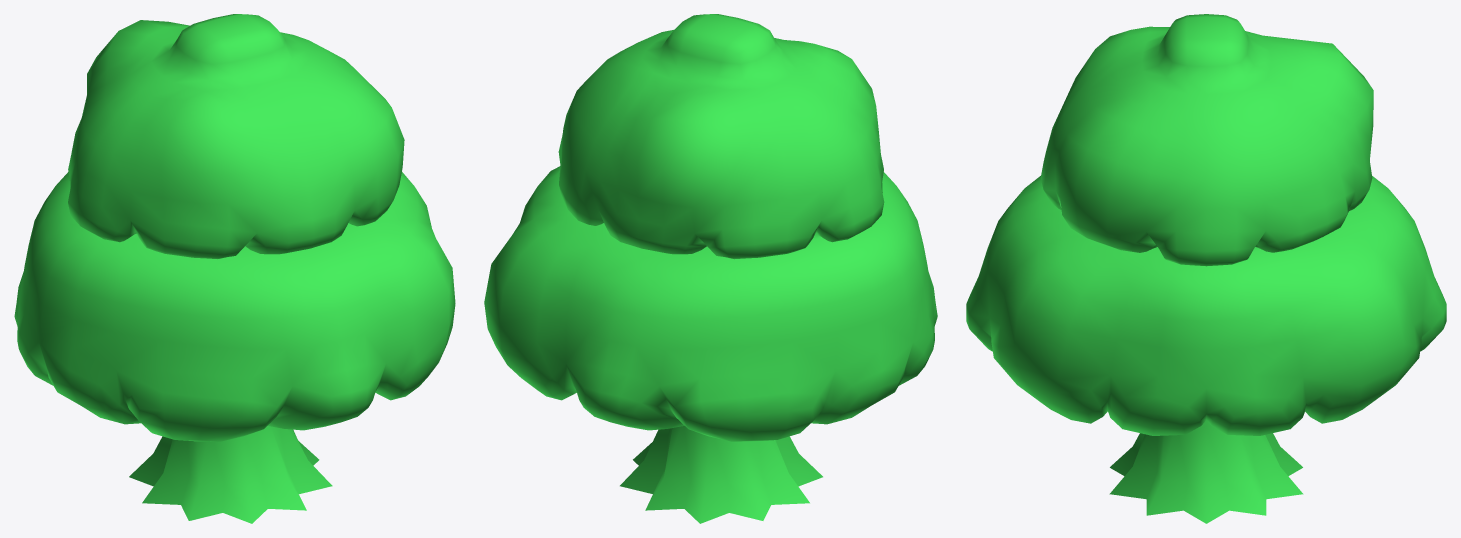
Rendered from Tree.fbx.
The picture shows the model from 3 angles, left to right: view 1: azimuth 30°, elevation 25°; view 2: azimuth 150°, elevation 25°; view 3: azimuth 270°, elevation 25°; orthographic projection.
Visible parts, largest first — view 1: Circle; view 2: Circle; view 3: Circle.
Boxes of the visible parts, x1=… form: Circle: x1=14, y1=14, x2=455, y2=523; Circle: x1=484, y1=14, x2=937, y2=523; Circle: x1=966, y1=14, x2=1446, y2=523.
Bounding box in the file's own units: 5.3 × 5.99 × 5.75.
